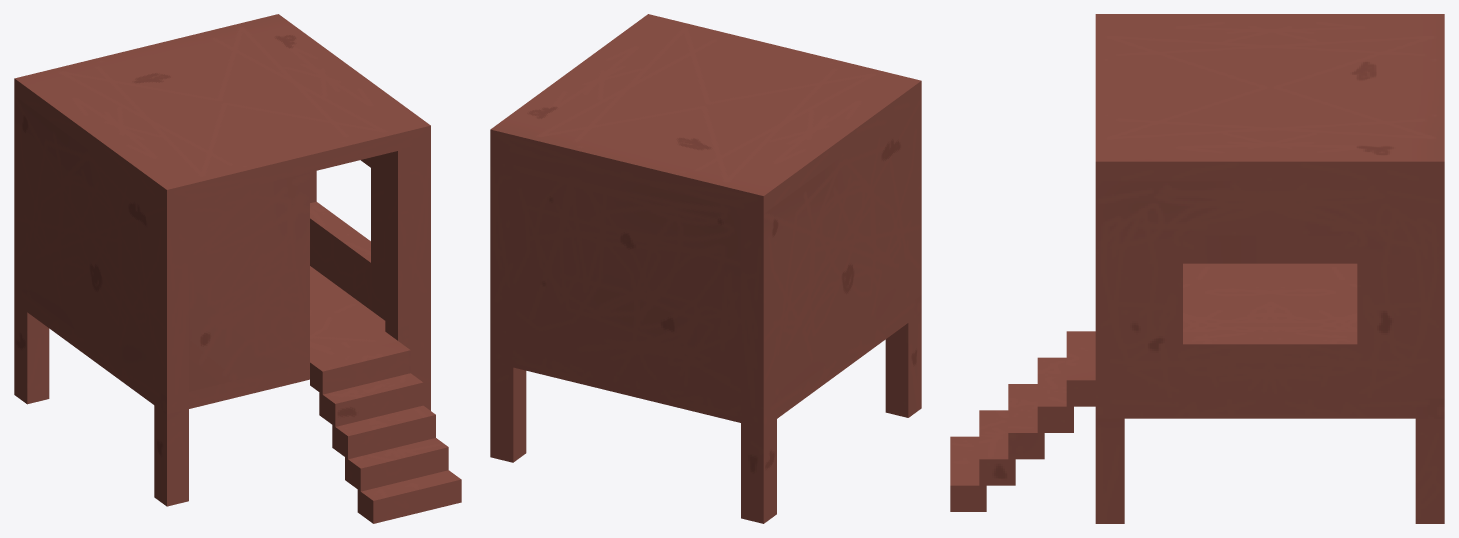
The model's file is cabin.glb.
The picture shows the model from 3 angles, left to right: view 1: azimuth 30°, elevation 25°; view 2: azimuth 150°, elevation 25°; view 3: azimuth 270°, elevation 25°; orthographic projection. The views are drawn at different scales.
Visible parts, largest first — view 1: mesh (×14); view 2: mesh (×8); view 3: mesh (×11).
Part boxes in pixels (x1,y1,x2,y2): mesh (×14): (14, 14, 461, 523); mesh (×8): (490, 14, 921, 523); mesh (×11): (950, 14, 1444, 523).
Size of the model in its own units: 3 by 3.5 by 4.25.
Materials: 1 (1 with a texture image).
